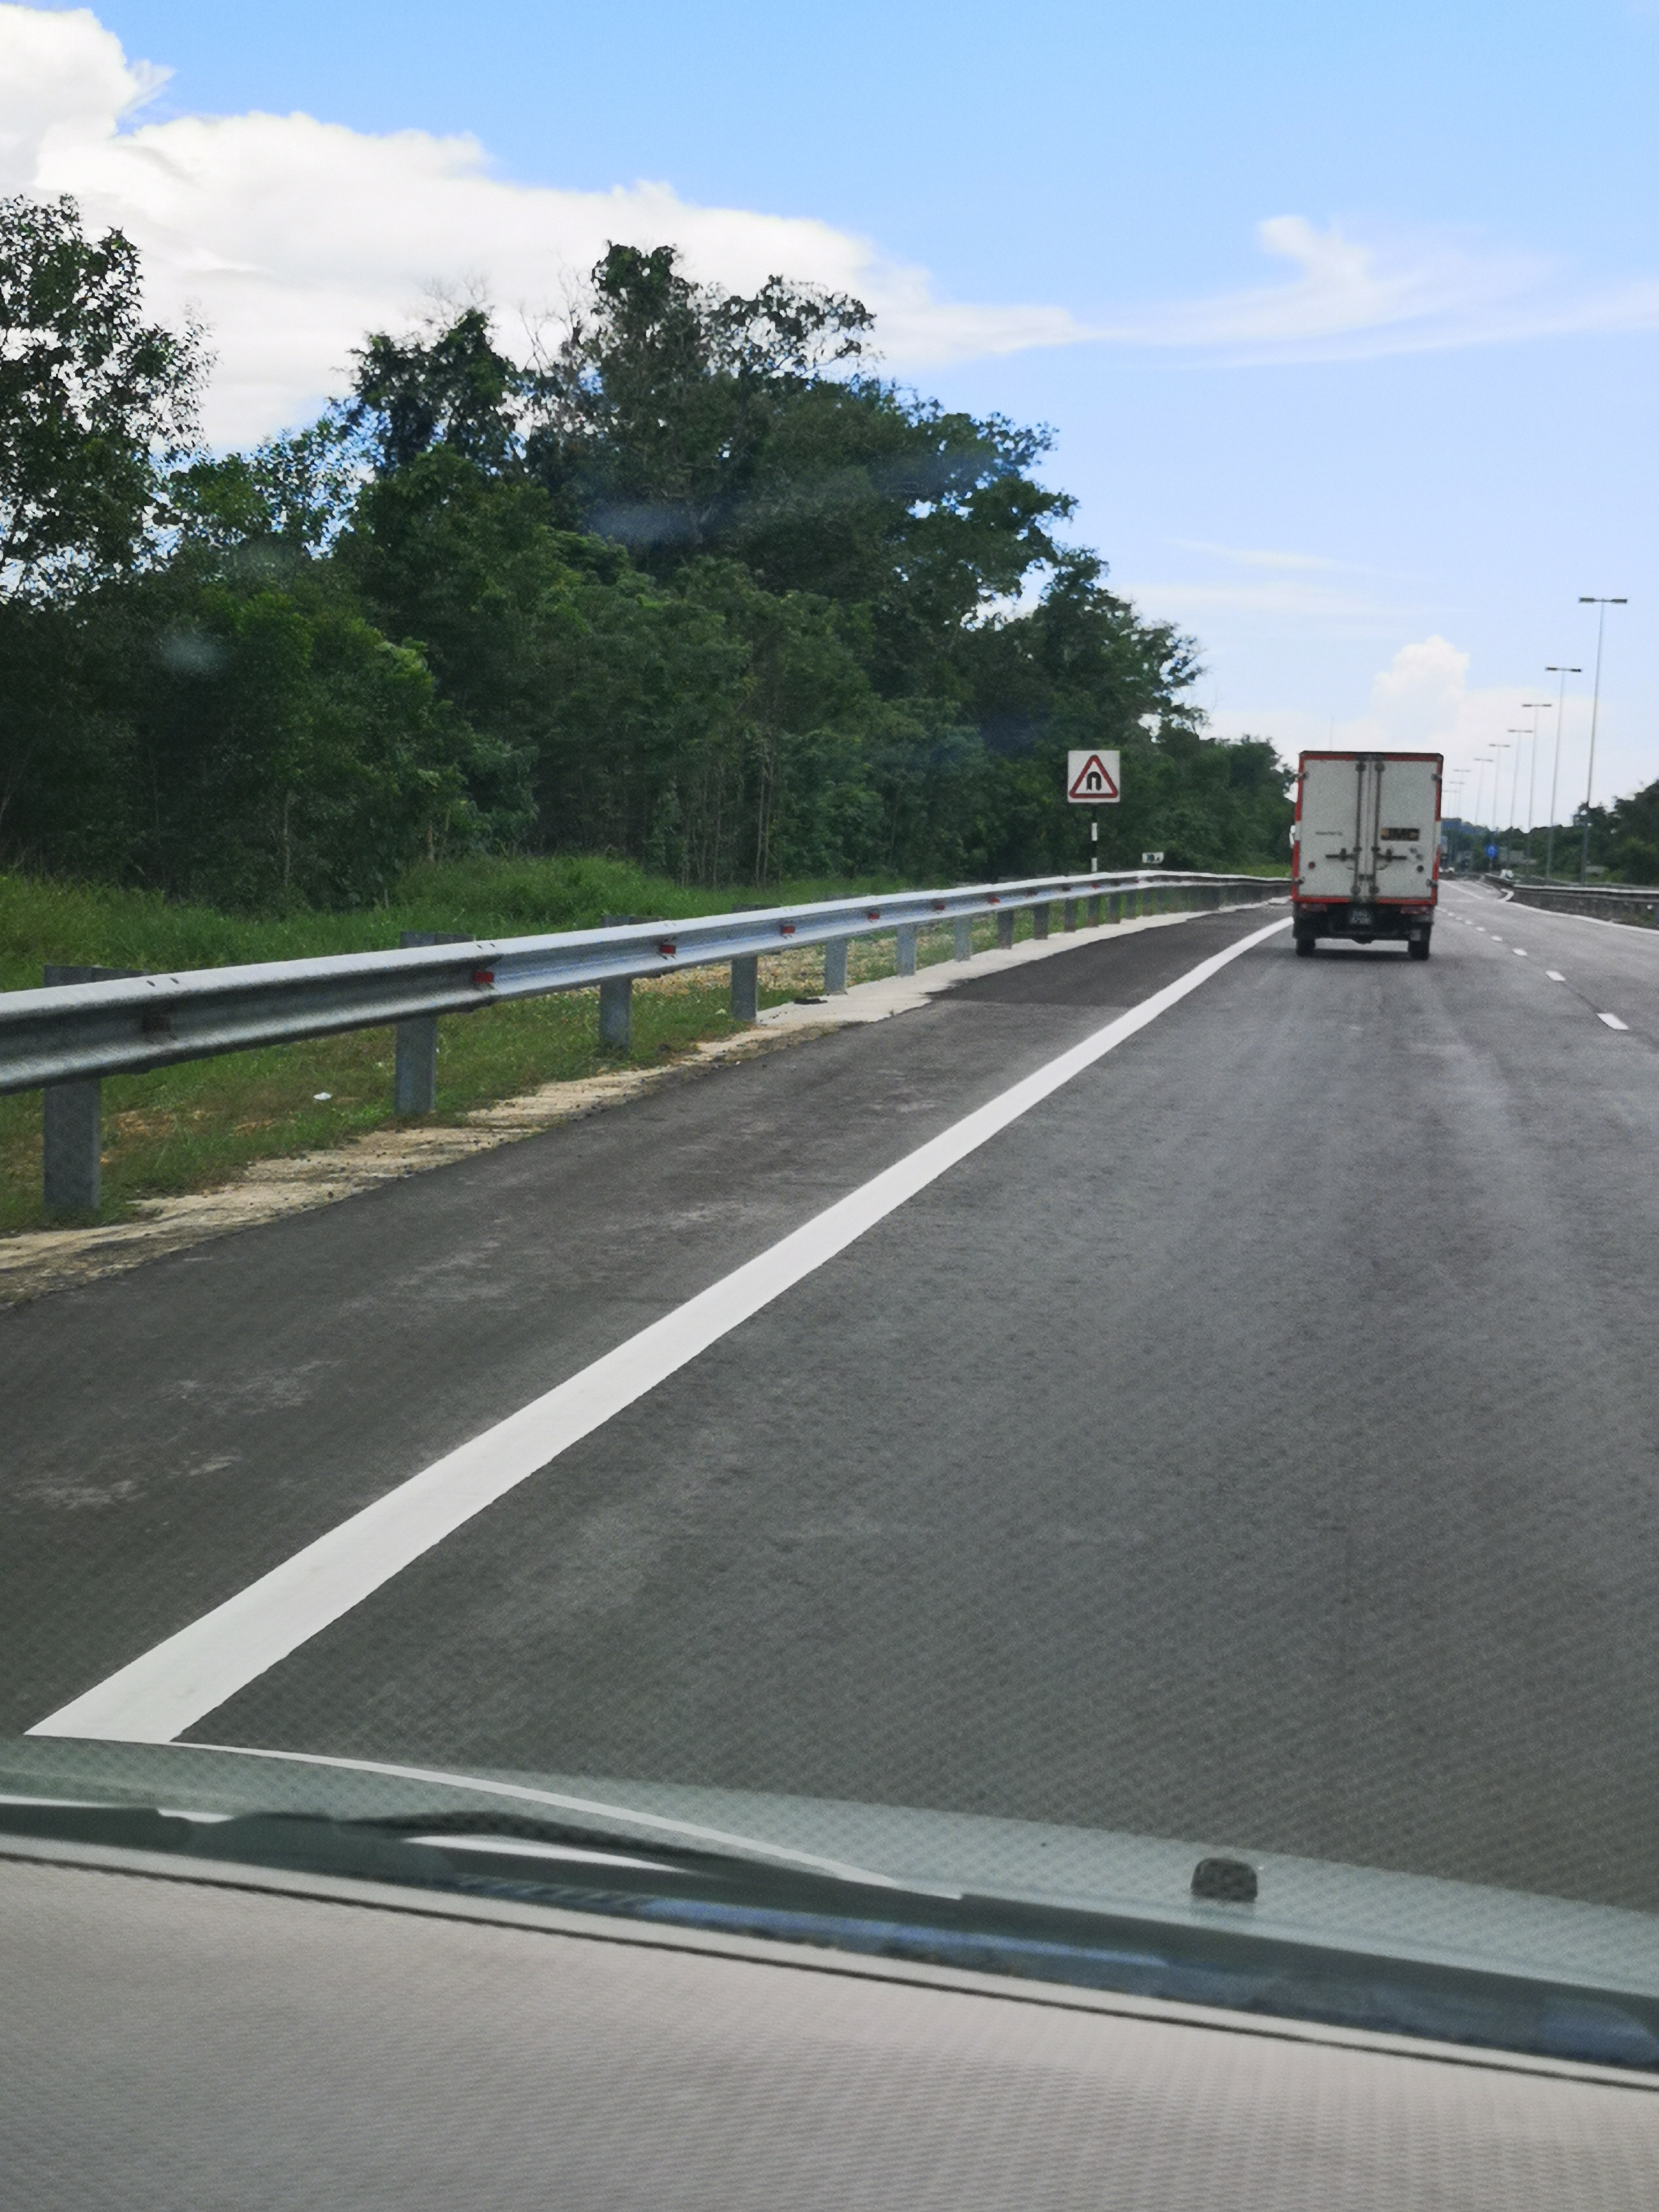U-turn: (1061, 749, 1126, 810)
